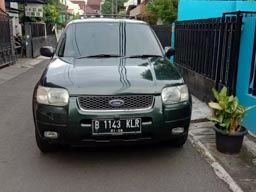plat: (92, 118, 140, 129)
